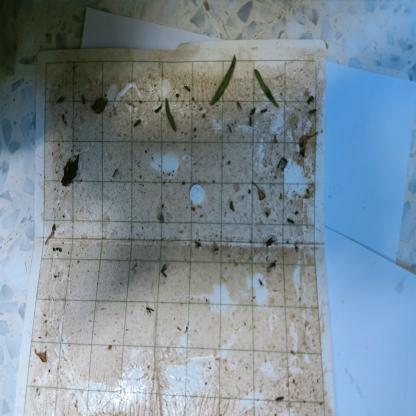prays_oleae: (192, 231, 203, 253), (158, 261, 170, 281), (305, 88, 317, 108), (264, 233, 276, 251), (144, 305, 158, 320), (207, 240, 220, 256), (265, 259, 280, 272), (233, 97, 244, 112), (259, 105, 270, 118), (132, 118, 142, 131), (307, 106, 317, 119), (250, 103, 258, 115), (248, 117, 254, 129)
